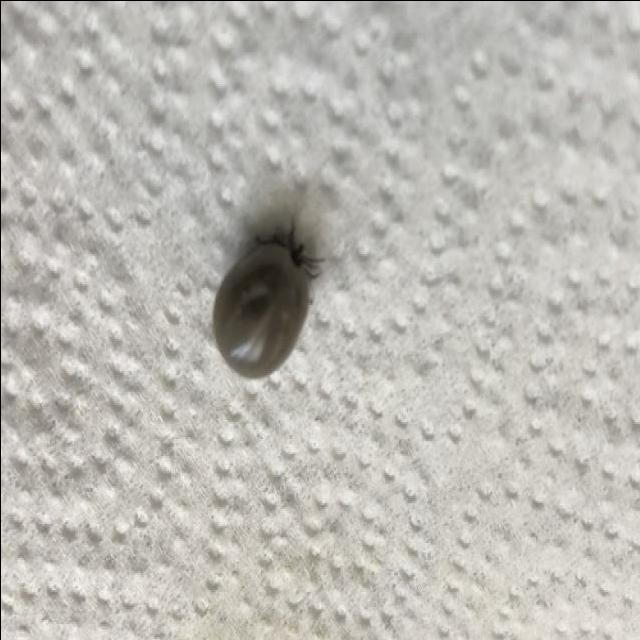Ixodes Ricinus-F-Fed: (211, 215, 319, 378)
